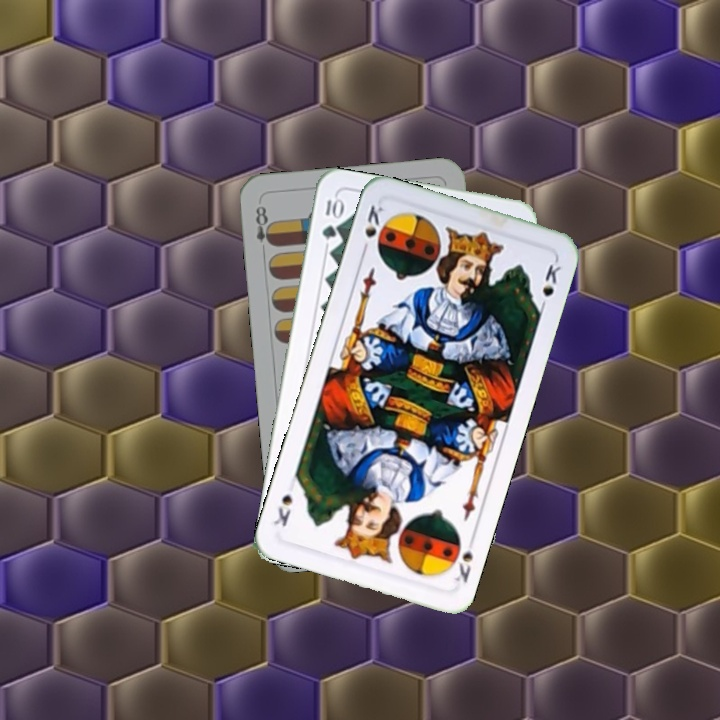E8: (251, 201, 277, 258)
G10: (318, 193, 344, 242)
SK: (358, 201, 388, 257), (449, 547, 476, 586)
